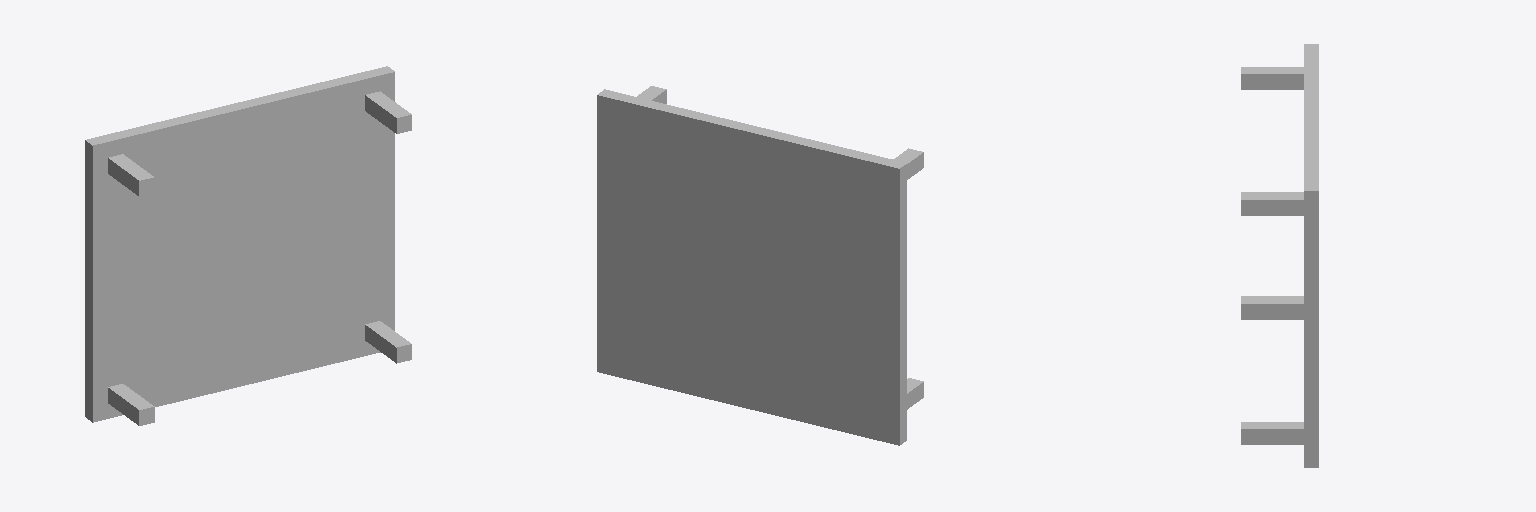
The model's file is random_table82.obj.
The picture shows the model from 3 angles: view 1: azimuth 30°, elevation 25°; view 2: azimuth 150°, elevation 25°; view 3: azimuth 270°, elevation 25°; orthographic projection.
Parts seen in each view (by area): view 1: Table_Cube.1475, TableLeg0_Cube.1476, TableLeg1_Cube.1477, TableLeg2_Cube.1478, TableLeg3_Cube.1479; view 2: Table_Cube.1475; view 3: Table_Cube.1475, TableLeg0_Cube.1476, TableLeg3_Cube.1479, TableLeg1_Cube.1477, TableLeg2_Cube.1478.
Part boxes in pixels (x1,y1,x2,y2): Table_Cube.1475: (85,66,394,422); TableLeg0_Cube.1476: (365,91,411,133); TableLeg1_Cube.1477: (108,154,154,196); TableLeg2_Cube.1478: (365,321,411,363); TableLeg3_Cube.1479: (108,384,154,425); Table_Cube.1475: (597,89,906,445); Table_Cube.1475: (1304,44,1318,467); TableLeg0_Cube.1476: (1241,192,1303,215); TableLeg3_Cube.1479: (1241,296,1303,319); TableLeg1_Cube.1477: (1241,67,1303,89); TableLeg2_Cube.1478: (1241,422,1303,444).
Bounding box in the file's own units: 8.57 × 7.5 × 1.94.